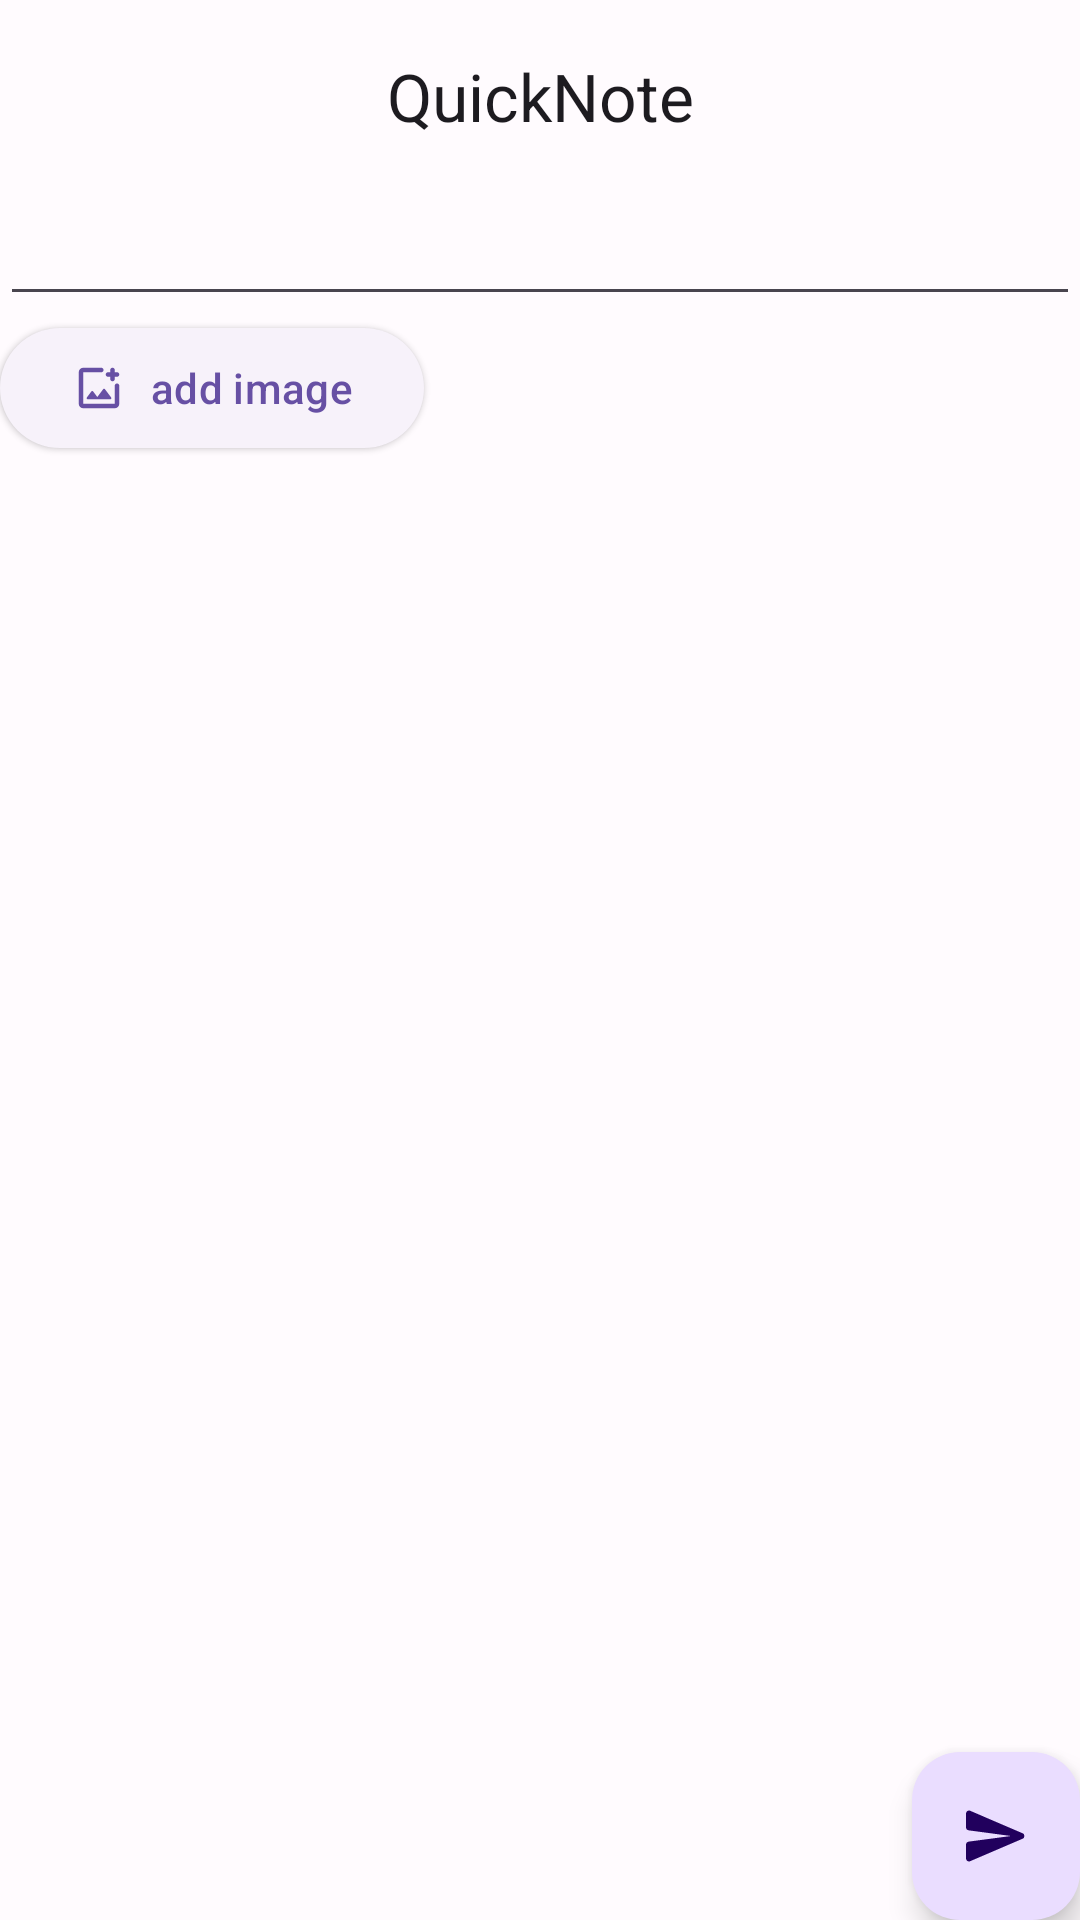

Icons on this 1080×1920 Android screen, each with the point to tap as [x,y]:
sent: [996,1836]
